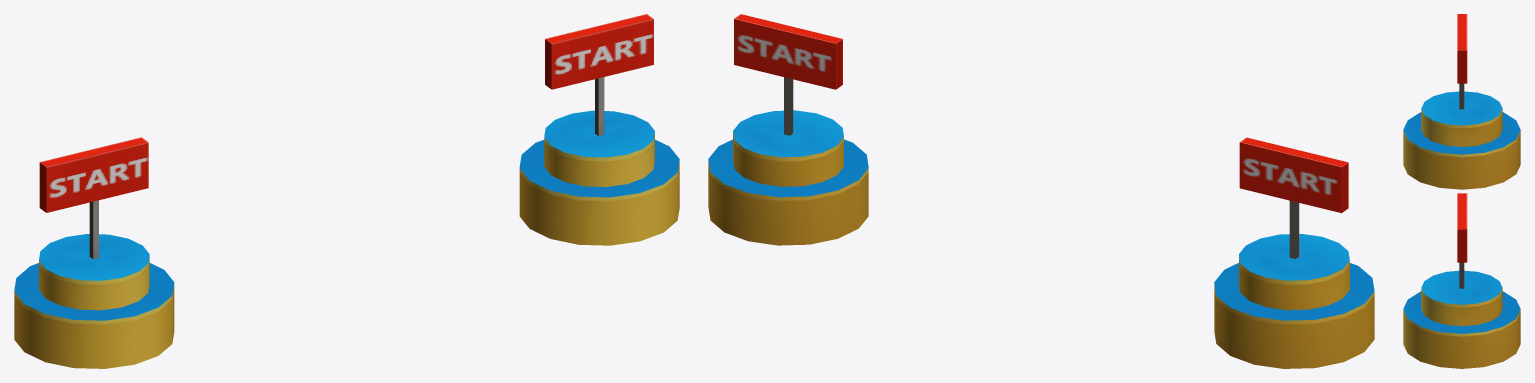
Rendered from kaishi.FBX.
The picture shows the model from 3 angles, left to right: view 1: azimuth 30°, elevation 25°; view 2: azimuth 150°, elevation 25°; view 3: azimuth 270°, elevation 25°; orthographic projection. The views are drawn at different scales.
Parts seen in each view (by area): view 1: Box02; view 2: Box02; view 3: Box02.
Boxes of the visible parts, bbox=[...] form: Box02: bbox=[14, 14, 679, 368]; Box02: bbox=[708, 14, 1374, 368]; Box02: bbox=[1403, 14, 1520, 368].
Bounding box in the file's own units: 187 × 40.52 × 50.54.
Materials: 1 (1 with a texture image).
